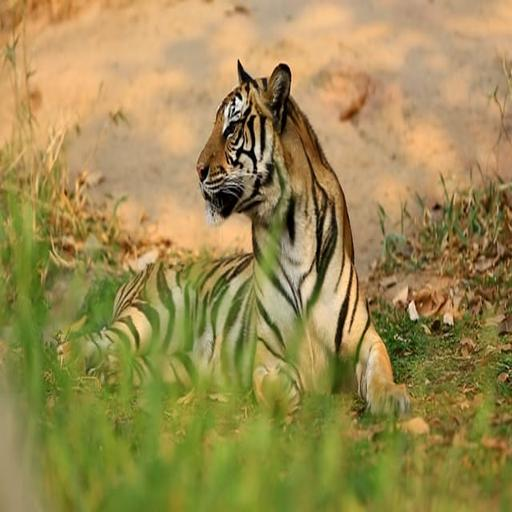Tiger: (0, 53, 419, 456)
